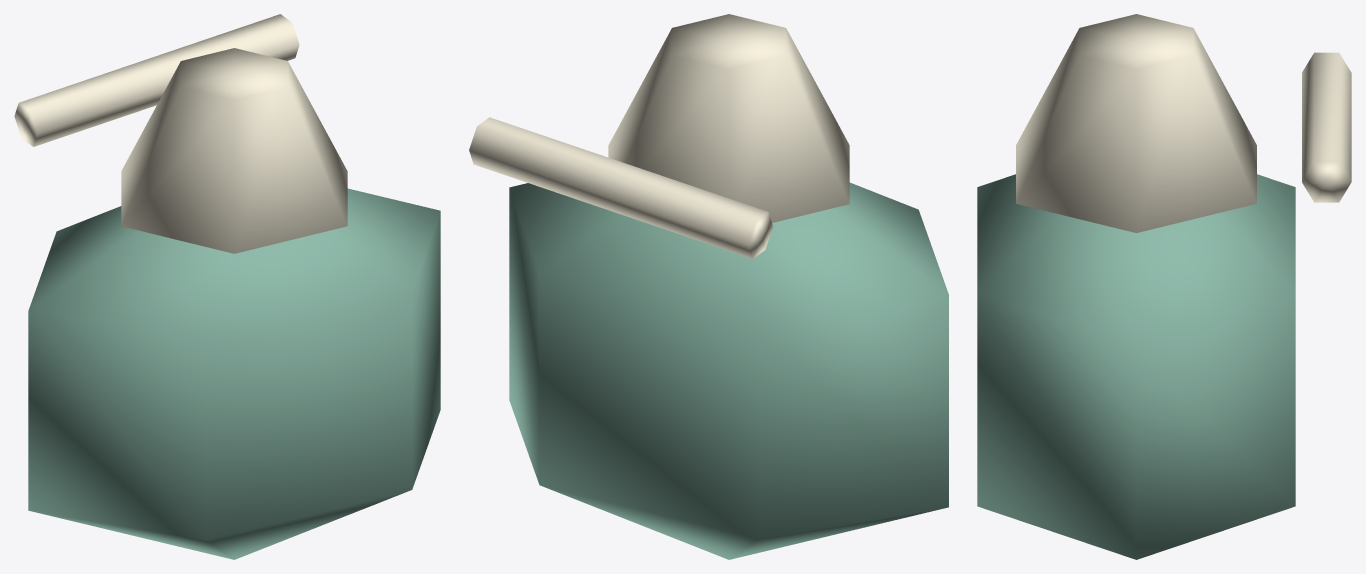
File: lost_pouch_low.glb
The picture shows the model from 3 angles, left to right: view 1: azimuth 30°, elevation 25°; view 2: azimuth 150°, elevation 25°; view 3: azimuth 270°, elevation 25°; orthographic projection. The views are drawn at different scales.
Bounding box in the file's own units: 0.3464 × 0.39 × 0.2557.
